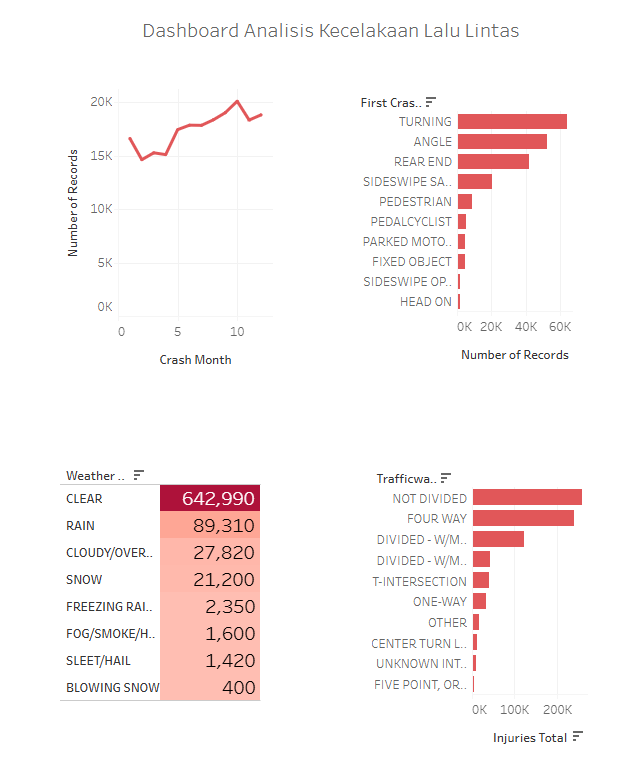

The page's visual inventory and layout, read from the dashboard file:
{"tool":"tableau","page":{"name":"Dashboard 1","canvas":[650,860],"ordinal":0},"visuals":[{"type":"text","box":[124,28,394,54]},{"type":"worksheet","title":"Sheet 1","mark":"Automatic","rows":["Calculation_1090997030595895296"],"cols":["crash_month"],"box":[39,116,216,286]},{"type":"worksheet","title":"Sheet 2","mark":"Automatic","rows":["first_crash_type"],"cols":["Calculation_1090997030595895296"],"box":[339,118,216,286]},{"type":"worksheet","title":"Sheet 3","mark":"Square","rows":["weather_condition"],"box":[42,494,216,279]},{"type":"worksheet","title":"Sheet 4","mark":"Automatic","rows":["trafficway_type"],"cols":["injuries_total"],"box":[354,497,216,286]}]}

Visuals, with their boxes on the page's 650x860 design canvas (x1, y1, x2, y2). These are canvas units, not pixel positions in the 640x774 screenshot, which may show the page scaled, cropped or inside an application window:
text: BBox(124, 28, 518, 82)
"Sheet 1" worksheet: BBox(39, 116, 255, 402)
"Sheet 2" worksheet: BBox(339, 118, 555, 404)
"Sheet 3" worksheet (Square marks): BBox(42, 494, 258, 773)
"Sheet 4" worksheet: BBox(354, 497, 570, 783)
